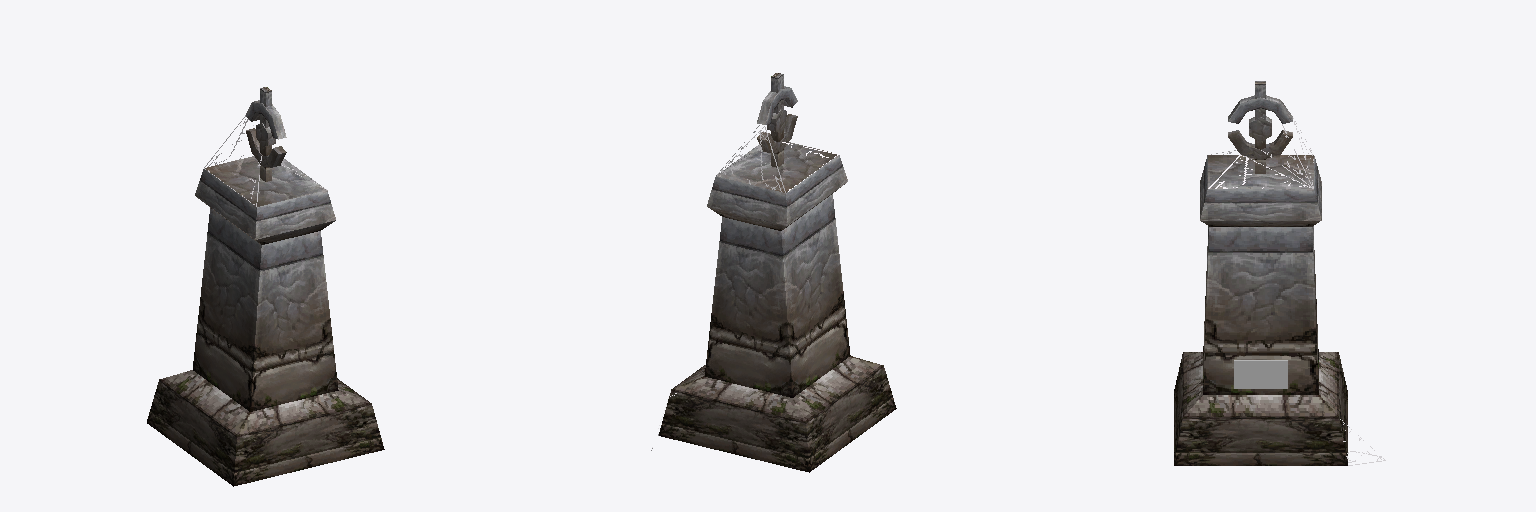
3 renders of one model, left to right at view 1: azimuth 30°, elevation 25°; view 2: azimuth 150°, elevation 25°; view 3: azimuth 270°, elevation 25°, orthographic.
Visible parts, largest first — view 1: object 1; view 2: object 1; view 3: object 1.
Part boxes in pixels (bbox=[...]): object 1: bbox=[147, 87, 384, 486]; object 1: bbox=[651, 73, 896, 472]; object 1: bbox=[1174, 81, 1385, 465].
Bounding box in the file's own units: 2.52 × 5.53 × 3.07.
4 materials, 3 textured.